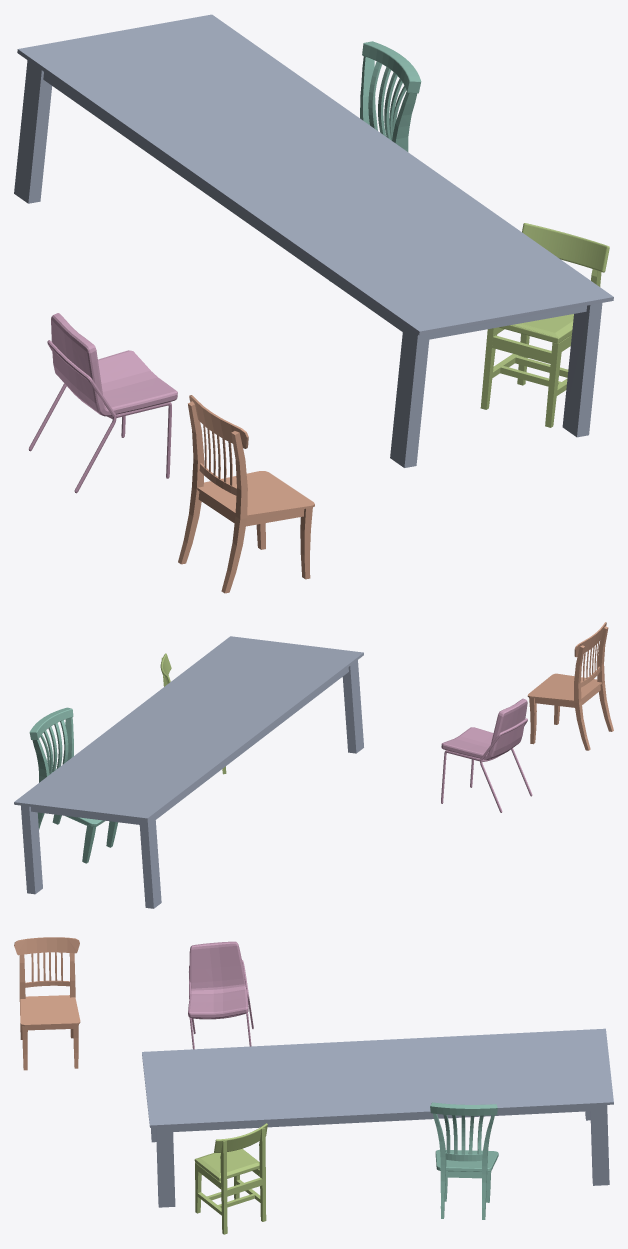
3 renders of one model, top to bottom at view 1: azimuth 30°, elevation 25°; view 2: azimuth 150°, elevation 25°; view 3: azimuth 270°, elevation 25°, orthographic. The views are drawn at different scales.
Parts seen in each view (by area): view 1: target_0_2, target_0_1, target_0_3, target_0_4, target_0_0; view 2: target_0_2, target_0_1, target_0_3, target_0_0; view 3: target_0_2, target_0_1, target_0_3, target_0_4, target_0_0.
Boxes of the visible parts, box(x1,y1,x2,y2) form: target_0_2: box(14, 14, 613, 467); target_0_1: box(178, 395, 314, 593); target_0_3: box(28, 313, 177, 493); target_0_4: box(480, 223, 609, 427); target_0_0: box(330, 41, 421, 281); target_0_2: box(14, 636, 363, 908); target_0_1: box(527, 622, 613, 750); target_0_3: box(441, 698, 532, 812); target_0_0: box(29, 707, 118, 863); target_0_2: box(142, 1028, 613, 1207); target_0_1: box(14, 937, 80, 1070); target_0_3: box(188, 941, 253, 1049); target_0_4: box(194, 1123, 267, 1234); target_0_0: box(430, 1102, 498, 1219).
Bounding box in the file's own units: 0.7342 × 0.2784 × 1.1.
